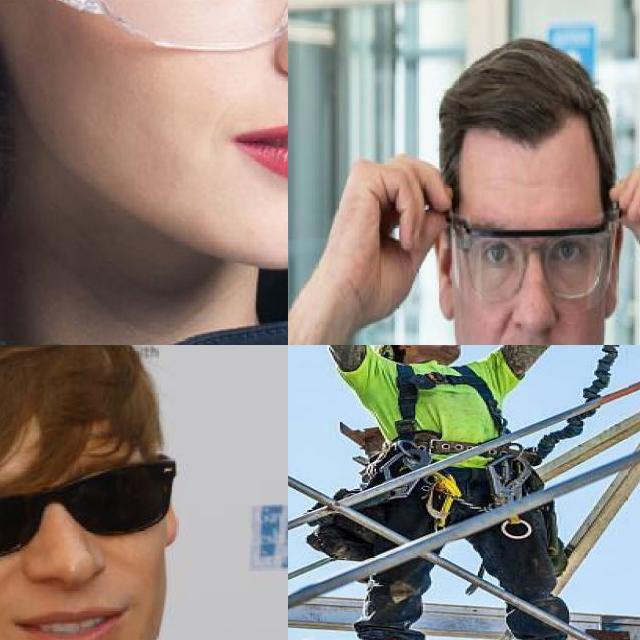Harness: (395, 363, 507, 440)
face_nomask: (0, 473, 156, 640), (167, 0, 288, 211), (458, 220, 607, 345)
glasses: (441, 205, 624, 314), (0, 457, 180, 562)
hand_noglove: (334, 150, 454, 321), (603, 134, 640, 317)
head_nohelmet: (432, 29, 616, 153), (0, 345, 168, 470)
person: (288, 33, 640, 345)
